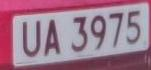3: (69, 11, 89, 58)
5: (125, 8, 143, 50)
7: (108, 10, 127, 53)
9: (89, 12, 110, 55)
A: (42, 14, 64, 62)
U: (20, 17, 44, 61)
